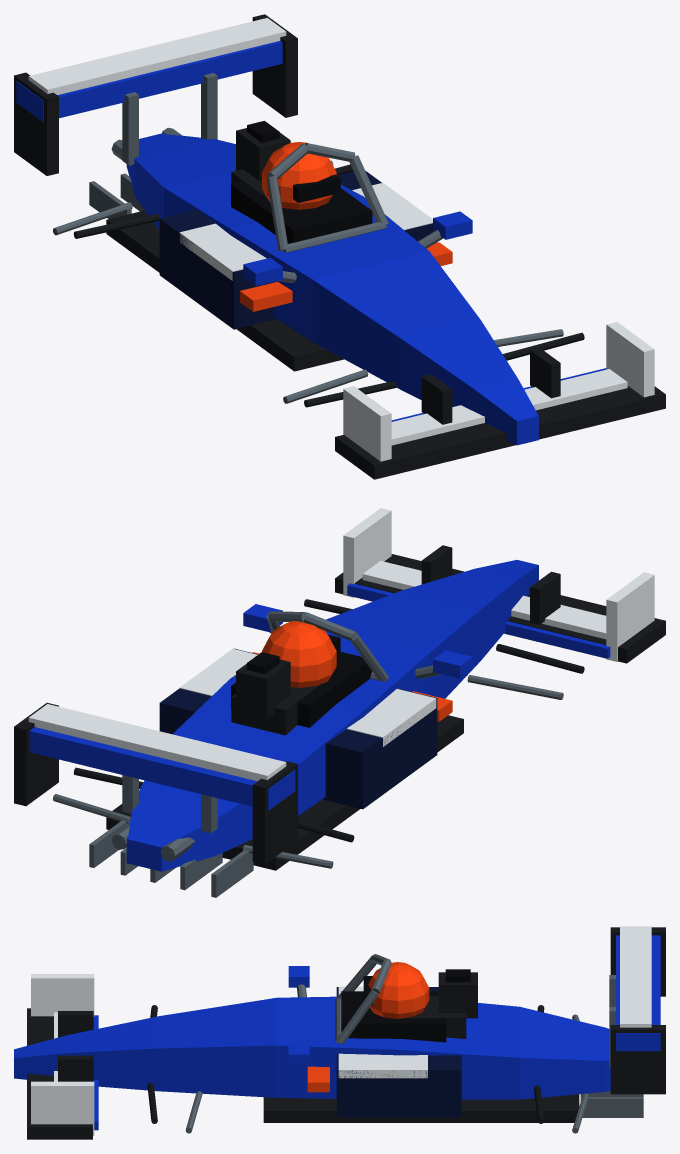
The model's file is Apex_V12_Formula_Car.obj.
3 views of the same model, one above another, from view 1: azimuth 30°, elevation 25°; view 2: azimuth 150°, elevation 25°; view 3: azimuth 270°, elevation 25° (orthographic). The views are drawn at different scales.
Visible parts, largest first — view 1: RacingBlue, Carbon, White, Metal, DeepBlue, Black, Orange; view 2: RacingBlue, Carbon, White, Metal, DeepBlue, Orange, Black; view 3: RacingBlue, Carbon, White, DeepBlue, Metal, Black, Orange.
Boxes of the visible parts, x1,y1,x2,y2 form: RacingBlue: (16,41,606,445); Carbon: (14,14,665,479); White: (28,18,654,461); Metal: (53,73,563,403); DeepBlue: (159,170,436,329); Black: (231,121,372,243); Orange: (240,142,452,311); RacingBlue: (29,560,610,871); Carbon: (14,545,665,870); White: (28,508,654,781); Metal: (53,611,563,897); DeepBlue: (159,648,437,809); Orange: (252,621,452,721); Black: (231,634,372,727); RacingBlue: (14,935,660,1130); Carbon: (27,927,665,1139); White: (31,926,651,1135); DeepBlue: (336,987,461,1117); Metal: (185,954,643,1133); Black: (341,969,470,1042); Orange: (307,962,429,1092).
Size of the model in its own units: 2.15 by 1.11 by 4.96.
